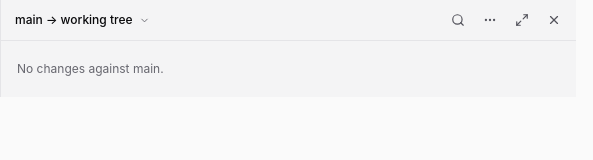
DiffView › says there are no changes against the compared branch
Expected: the text "No changes against main." is shown, left=17, top=61, right=164, bottom=76
Click the button with aria-label "Diff target: main → working tree" at (82, 20), box left=9, top=8, right=156, bottom=32
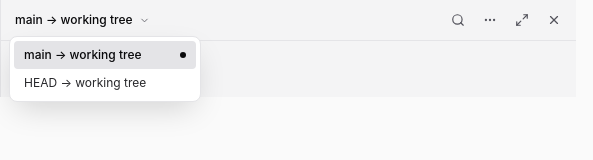
Click the option "HEAD → working tree" at (105, 83), box left=14, top=69, right=196, bottom=97
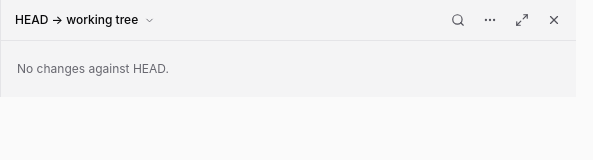
Now the text "No changes against HEAD." is shown, box left=17, top=61, right=169, bottom=76
